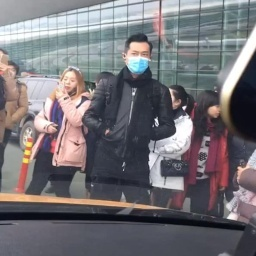correctlyWear: (122, 47, 151, 75)
noWear: (60, 74, 80, 93), (206, 101, 221, 118), (8, 66, 18, 78)
